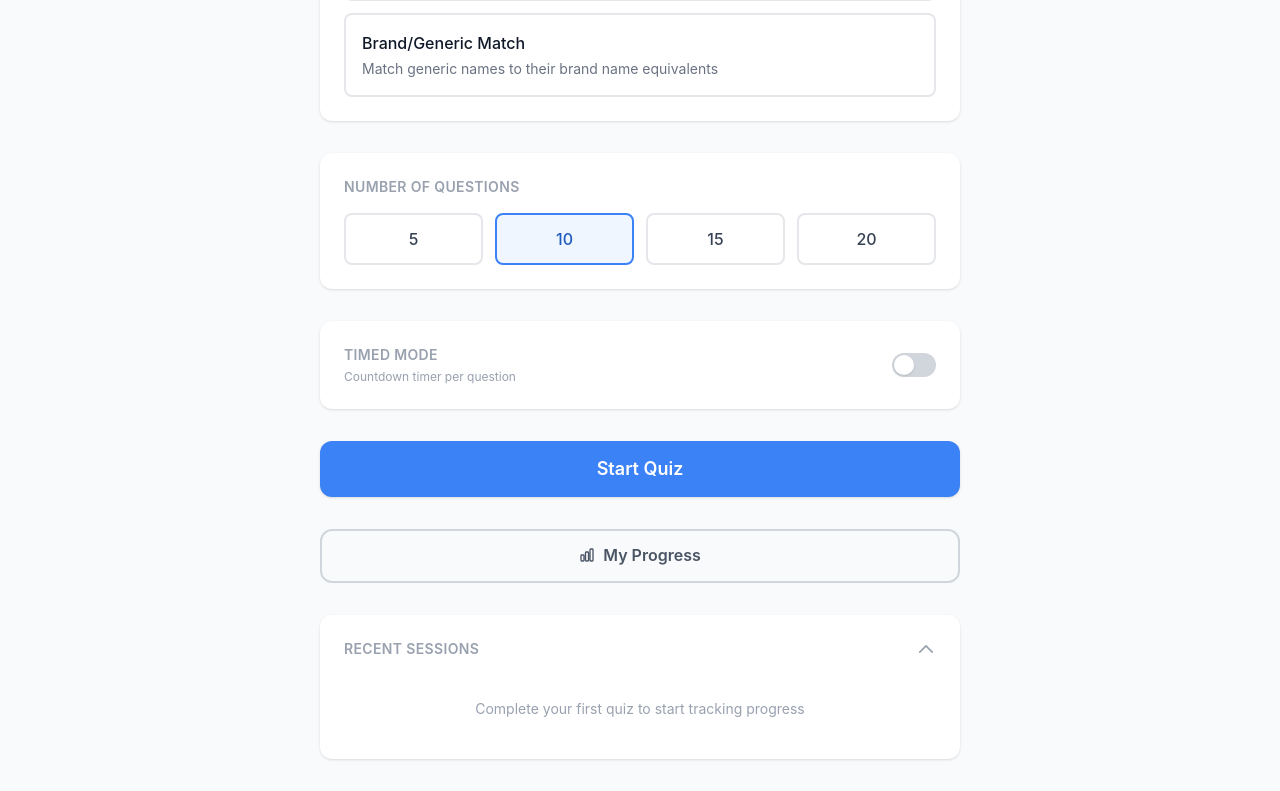
Test: App › shows error state when generation fails
(page scrolled)
Click the button "Start Quiz" at (640, 469), box [320, 441, 960, 497]
(page scrolled)
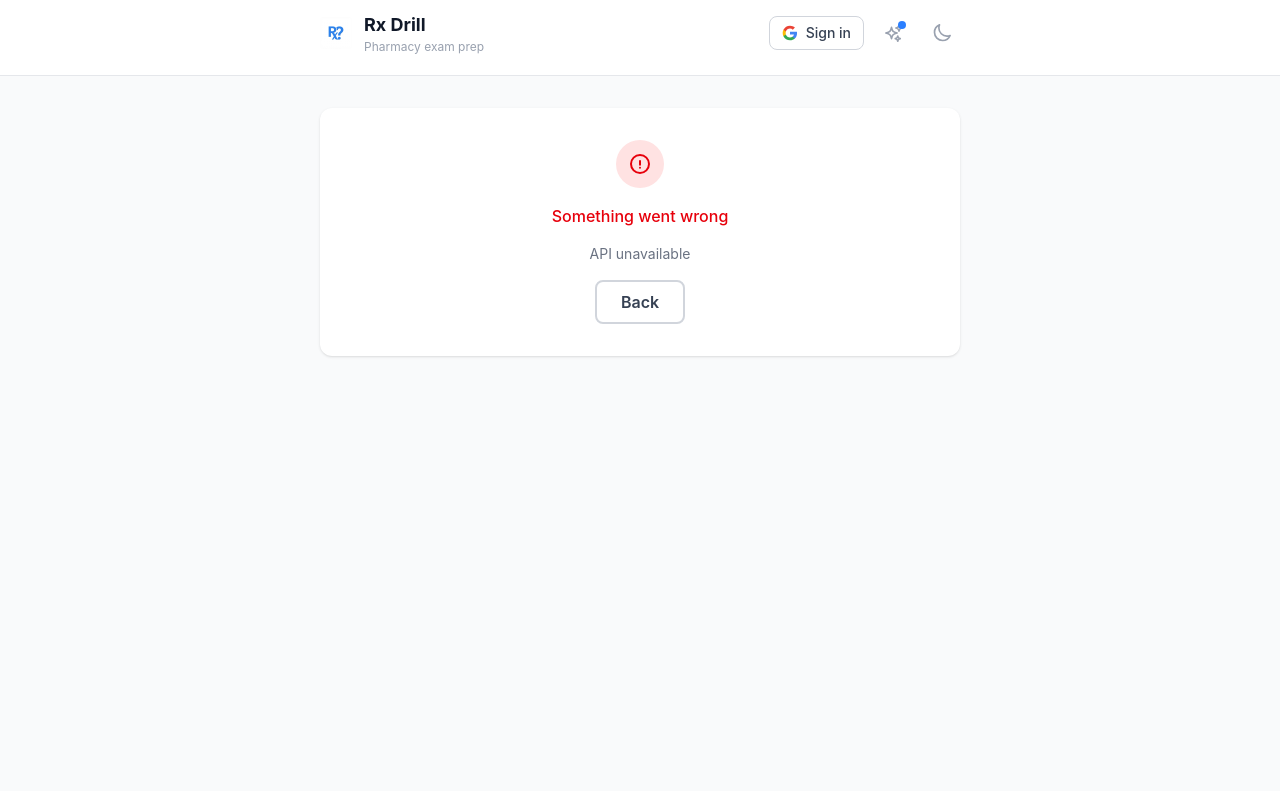
Check: the text "Something went wrong" is shown, box [552, 206, 728, 226]
Check: the text "API unavailable" is shown, box [590, 245, 690, 262]
